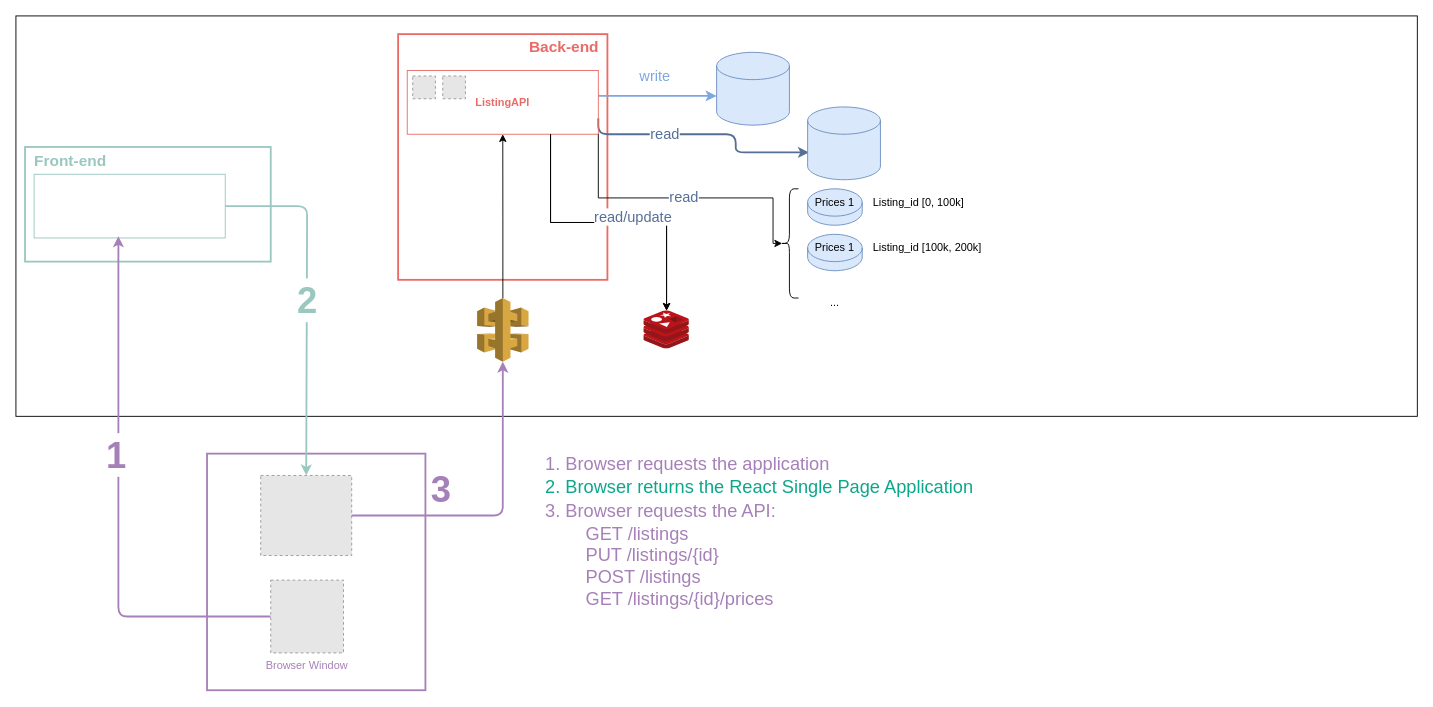
This 1433x707 diagram has some shape labels left out. Grey dashed boxes stand in for pictures. The centre of each missing label's shape, as x and y in pixels:
HTTP Server: the point at 129,205
listing Primary Database: the point at 752,88
listing read replicas: the point at 843,143
